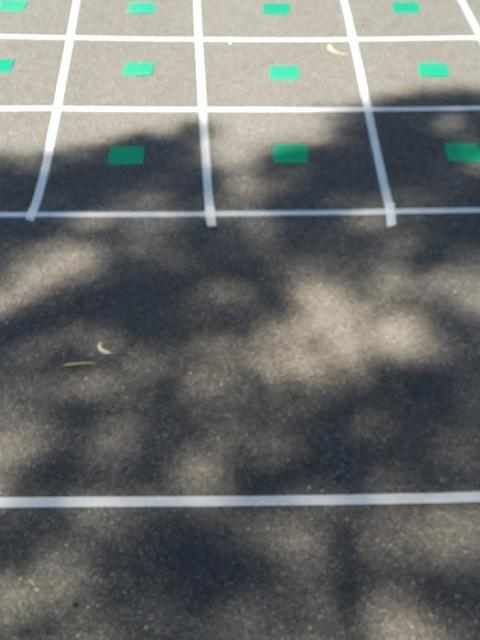weed: (104, 138, 149, 172), (442, 134, 480, 170), (270, 140, 314, 167), (119, 56, 154, 82), (417, 57, 452, 80), (269, 60, 299, 84), (124, 0, 155, 18), (260, 0, 290, 18), (0, 0, 32, 16), (392, 0, 422, 16), (0, 53, 18, 72)
